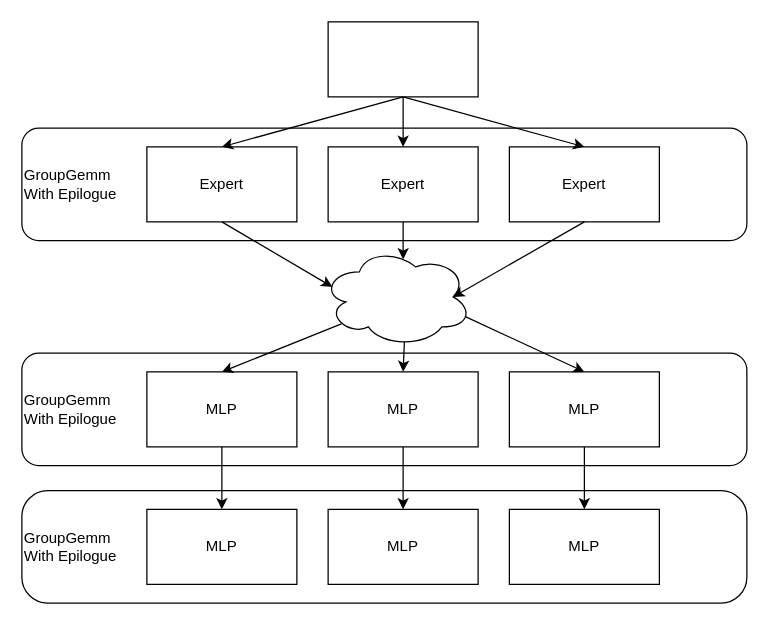
Some shapes in this 769 by 625 pixel diagram are drawn without their labels. Each missing label, with the centre of its shape:
Expert Network Process Gating: the point at 396,296
Featuremap: the point at 402,59
